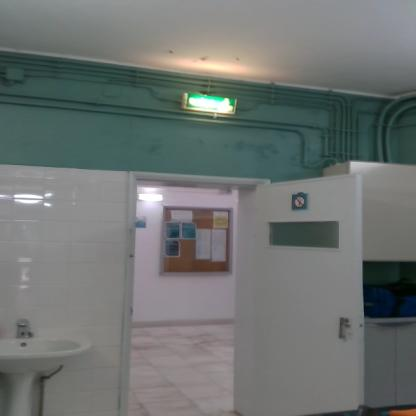open: (116, 147, 368, 416)
